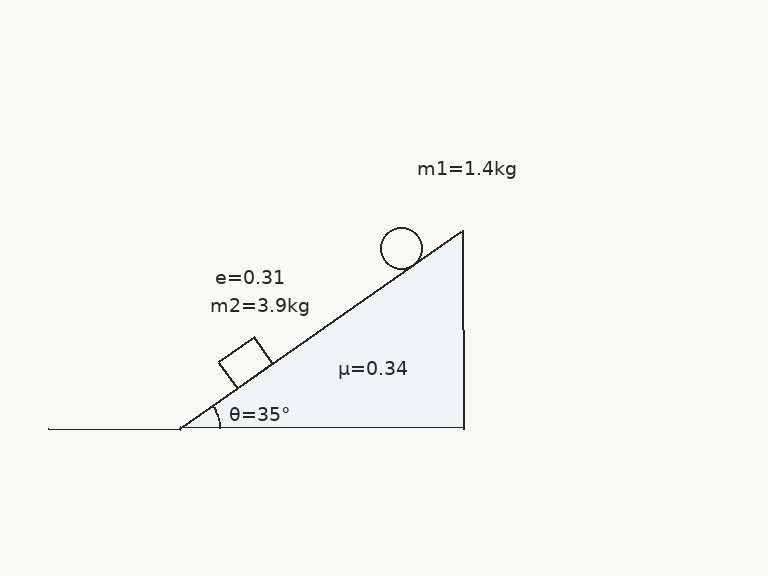ball: (378, 225, 424, 271)
block: (216, 335, 275, 390)
ramp: (178, 228, 465, 430)
